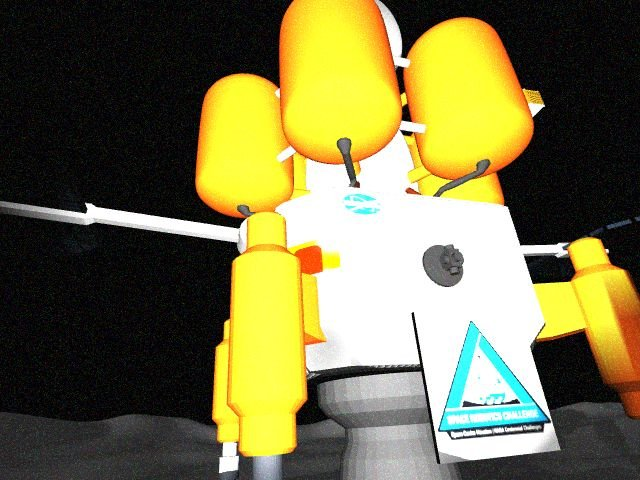basemarker: (437, 319, 552, 443)
